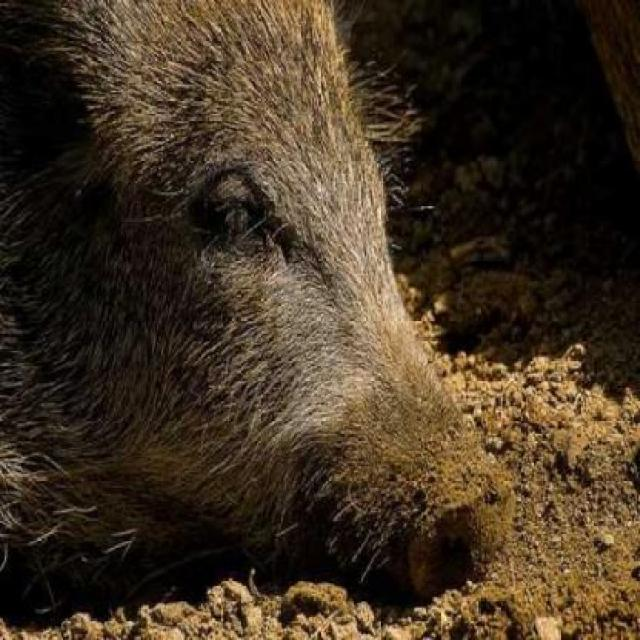pig: (1, 2, 548, 639)
